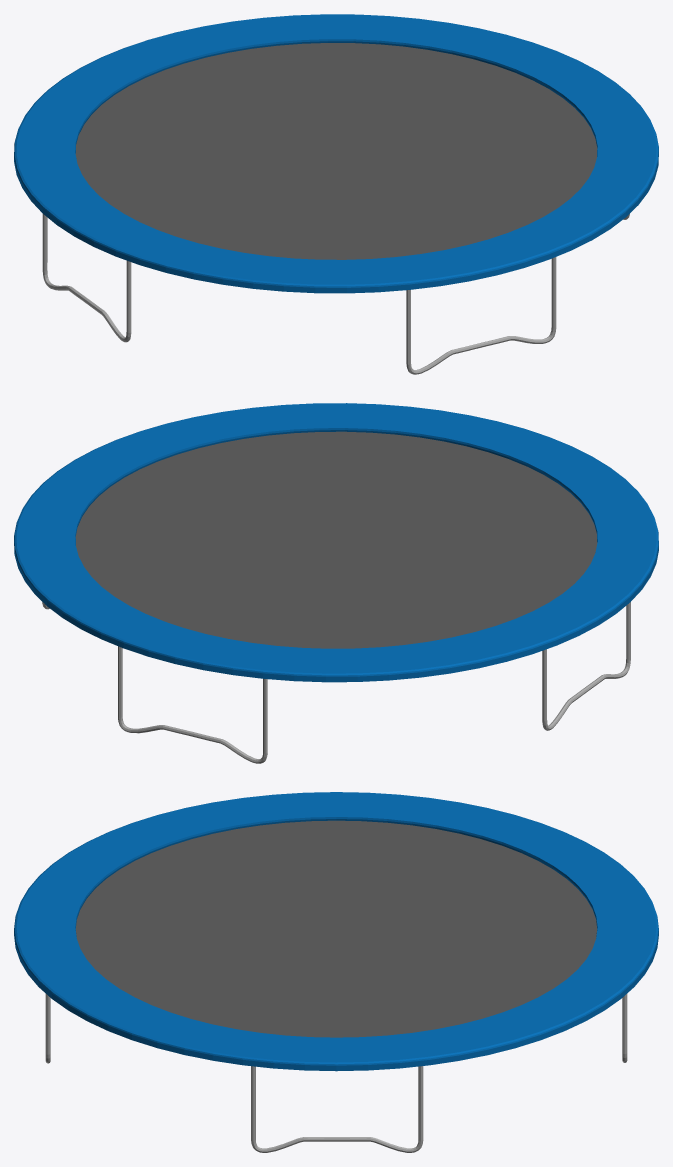
Rendered from sweethome3d-scopia-trampoline-187.glb.
3 views of the same model, one above another, from view 1: azimuth 30°, elevation 25°; view 2: azimuth 150°, elevation 25°; view 3: azimuth 270°, elevation 25° (orthographic).
Parts seen in each view (by area): view 1: Circle, BezierCurve_Mesh, BezierCurve.001_Mesh.001; view 2: Circle, BezierCurve.002_Mesh.002, BezierCurve.001_Mesh.001; view 3: Circle, BezierCurve.003_Mesh.003.
Boxes of the visible parts, x1=… form: Circle: x1=14, y1=14, x2=658, y2=293; BezierCurve_Mesh: x1=406, y1=257, x2=556, y2=374; BezierCurve.001_Mesh.001: x1=42, y1=214, x2=131, y2=342; Circle: x1=14, y1=403, x2=658, y2=682; BezierCurve.002_Mesh.002: x1=118, y1=646, x2=267, y2=763; BezierCurve.001_Mesh.001: x1=542, y1=602, x2=630, y2=730; Circle: x1=14, y1=792, x2=658, y2=1071; BezierCurve.003_Mesh.003: x1=251, y1=1066, x2=423, y2=1152.
Bounding box in the file's own units: 300 × 53.23 × 300.
